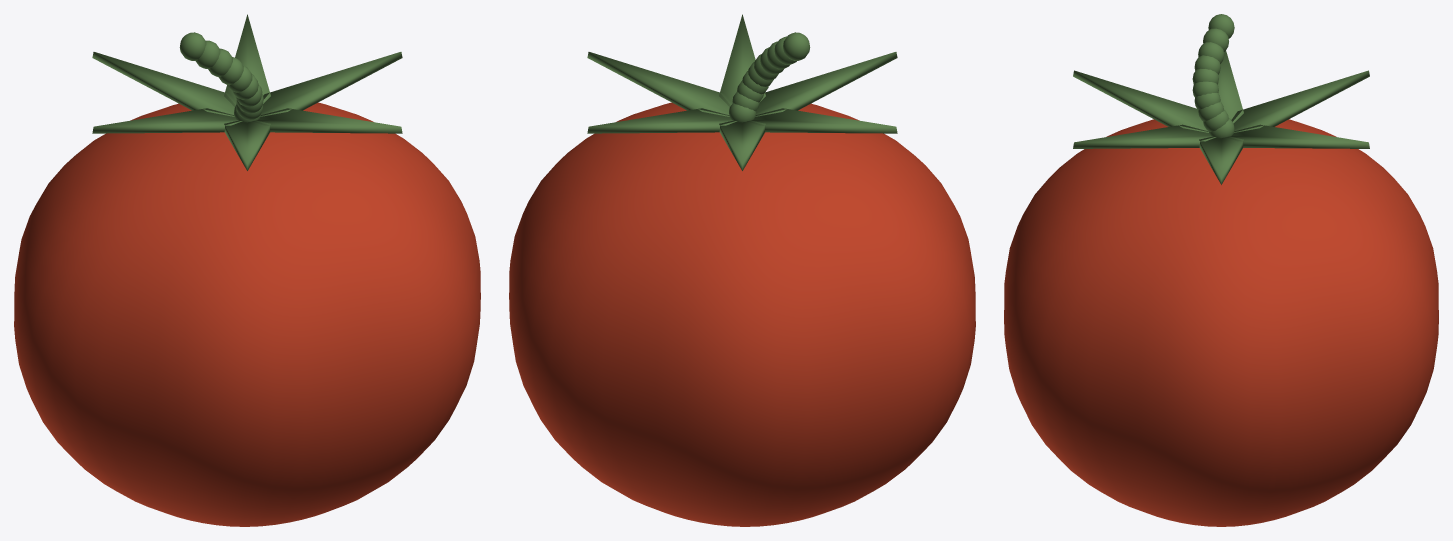
Rendered from campari.glb.
3 renders of one model, left to right at view 1: azimuth 30°, elevation 25°; view 2: azimuth 150°, elevation 25°; view 3: azimuth 270°, elevation 25°, orthographic. The views are drawn at different scales.
Parts seen in each view (by area): view 1: Campari Campari vermilion satin skin, Campari Campari reflexed sage crown; view 2: Campari Campari vermilion satin skin, Campari Campari reflexed sage crown; view 3: Campari Campari vermilion satin skin, Campari Campari reflexed sage crown.
Part boxes in pixels (left/top/right/bottom): Campari Campari vermilion satin skin: left=14, top=102, right=480, bottom=526; Campari Campari reflexed sage crown: left=92, top=14, right=402, bottom=170; Campari Campari vermilion satin skin: left=509, top=102, right=975, bottom=526; Campari Campari reflexed sage crown: left=587, top=14, right=897, bottom=170; Campari Campari vermilion satin skin: left=1004, top=119, right=1438, bottom=526; Campari Campari reflexed sage crown: left=1073, top=14, right=1369, bottom=184.
Bounding box in the file's own units: 1.19 × 1.29 × 1.09.
